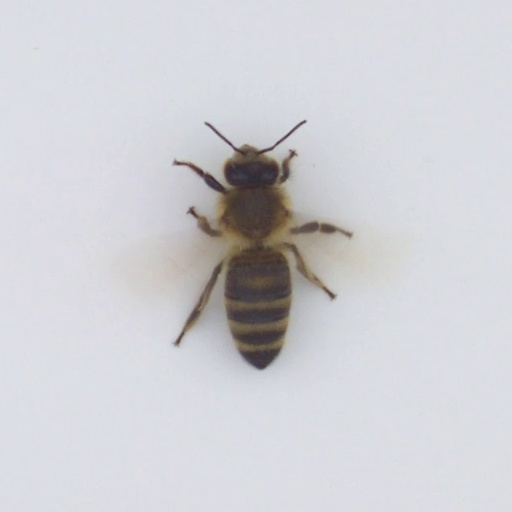Bee: (218, 135, 301, 376)
Thorax: (219, 186, 288, 242)
